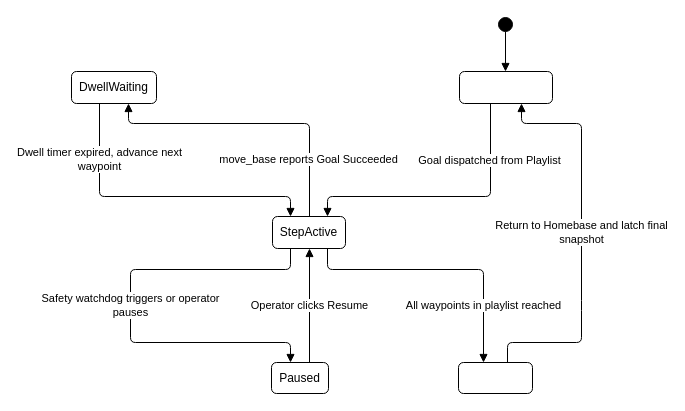
The diagram is 685 pixels wide and 411 high, and some of its shapes have lost their labels. The shapes that lost their labels are listed below. From the top down, each one's centre as x and y in pixels, then its label:
point 505,87: SupervisorIdle
point 495,378: Completed
